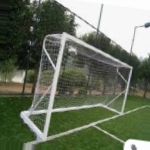goals: (19, 31, 134, 140)
